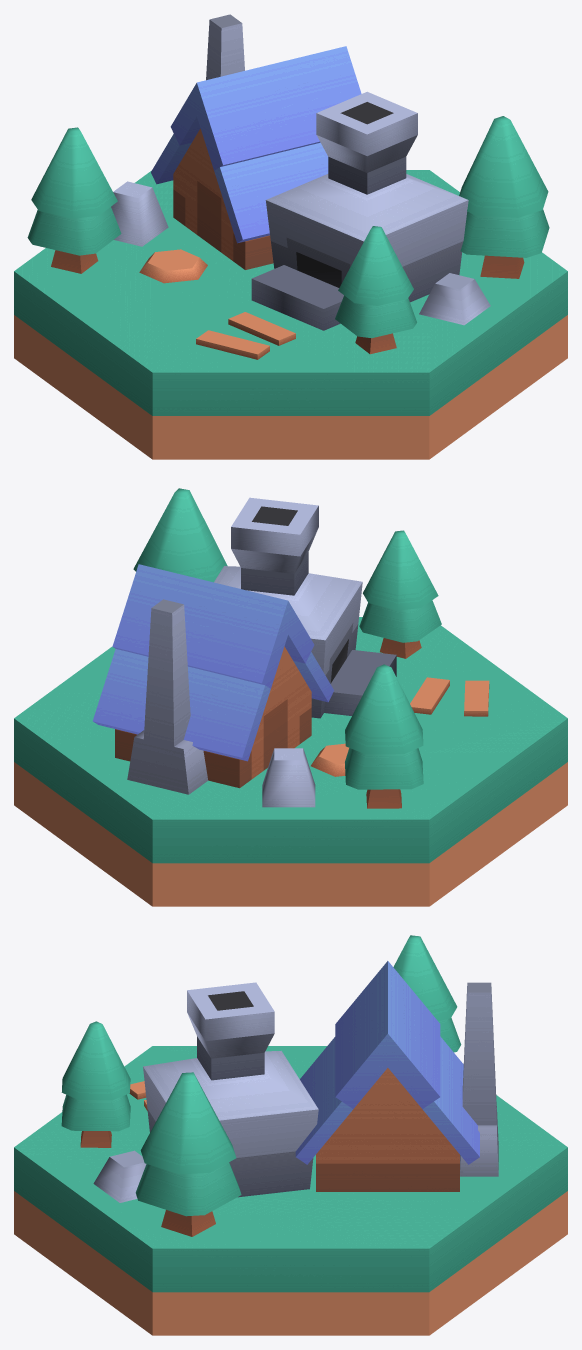
Rendered from building-smelter.glb.
3 views of the same model, one above another, from view 1: azimuth 30°, elevation 25°; view 2: azimuth 150°, elevation 25°; view 3: azimuth 270°, elevation 25° (orthographic).
Visible parts, largest first — view 1: building-smelter; view 2: building-smelter; view 3: building-smelter.
Boxes of the visible parts, x1,y1,x2,y2 form: building-smelter: [14, 14, 567, 459]; building-smelter: [14, 488, 567, 906]; building-smelter: [14, 935, 567, 1335].
Size of the model in its own units: 10 by 6 by 11.55.
1 material, 1 textured.
